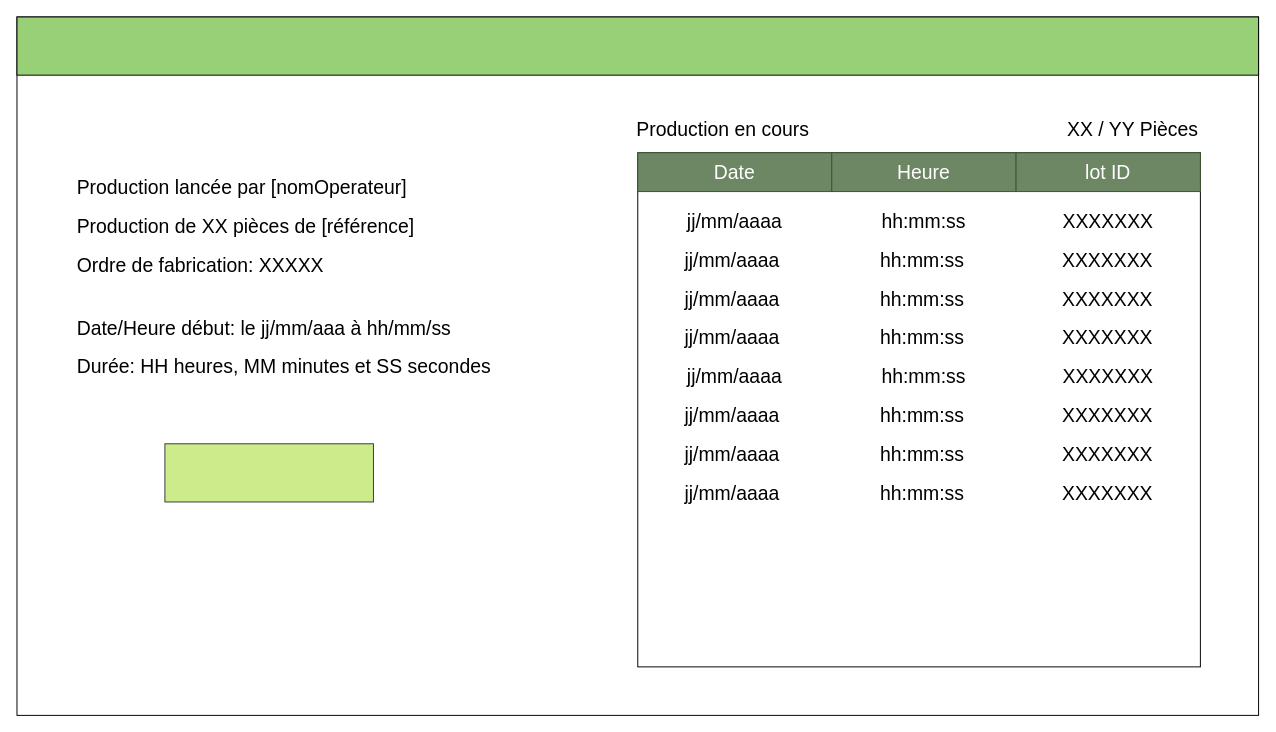
Image size: 1276x732. Some labels were removed from this diagram. Each missing label, with the centre of its shape:
"Fin de production" belongs at (x=268, y=472).
"Gestion de production" belongs at (x=637, y=45).
